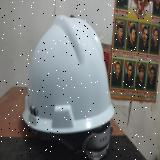Helmet: (22, 13, 115, 134)
